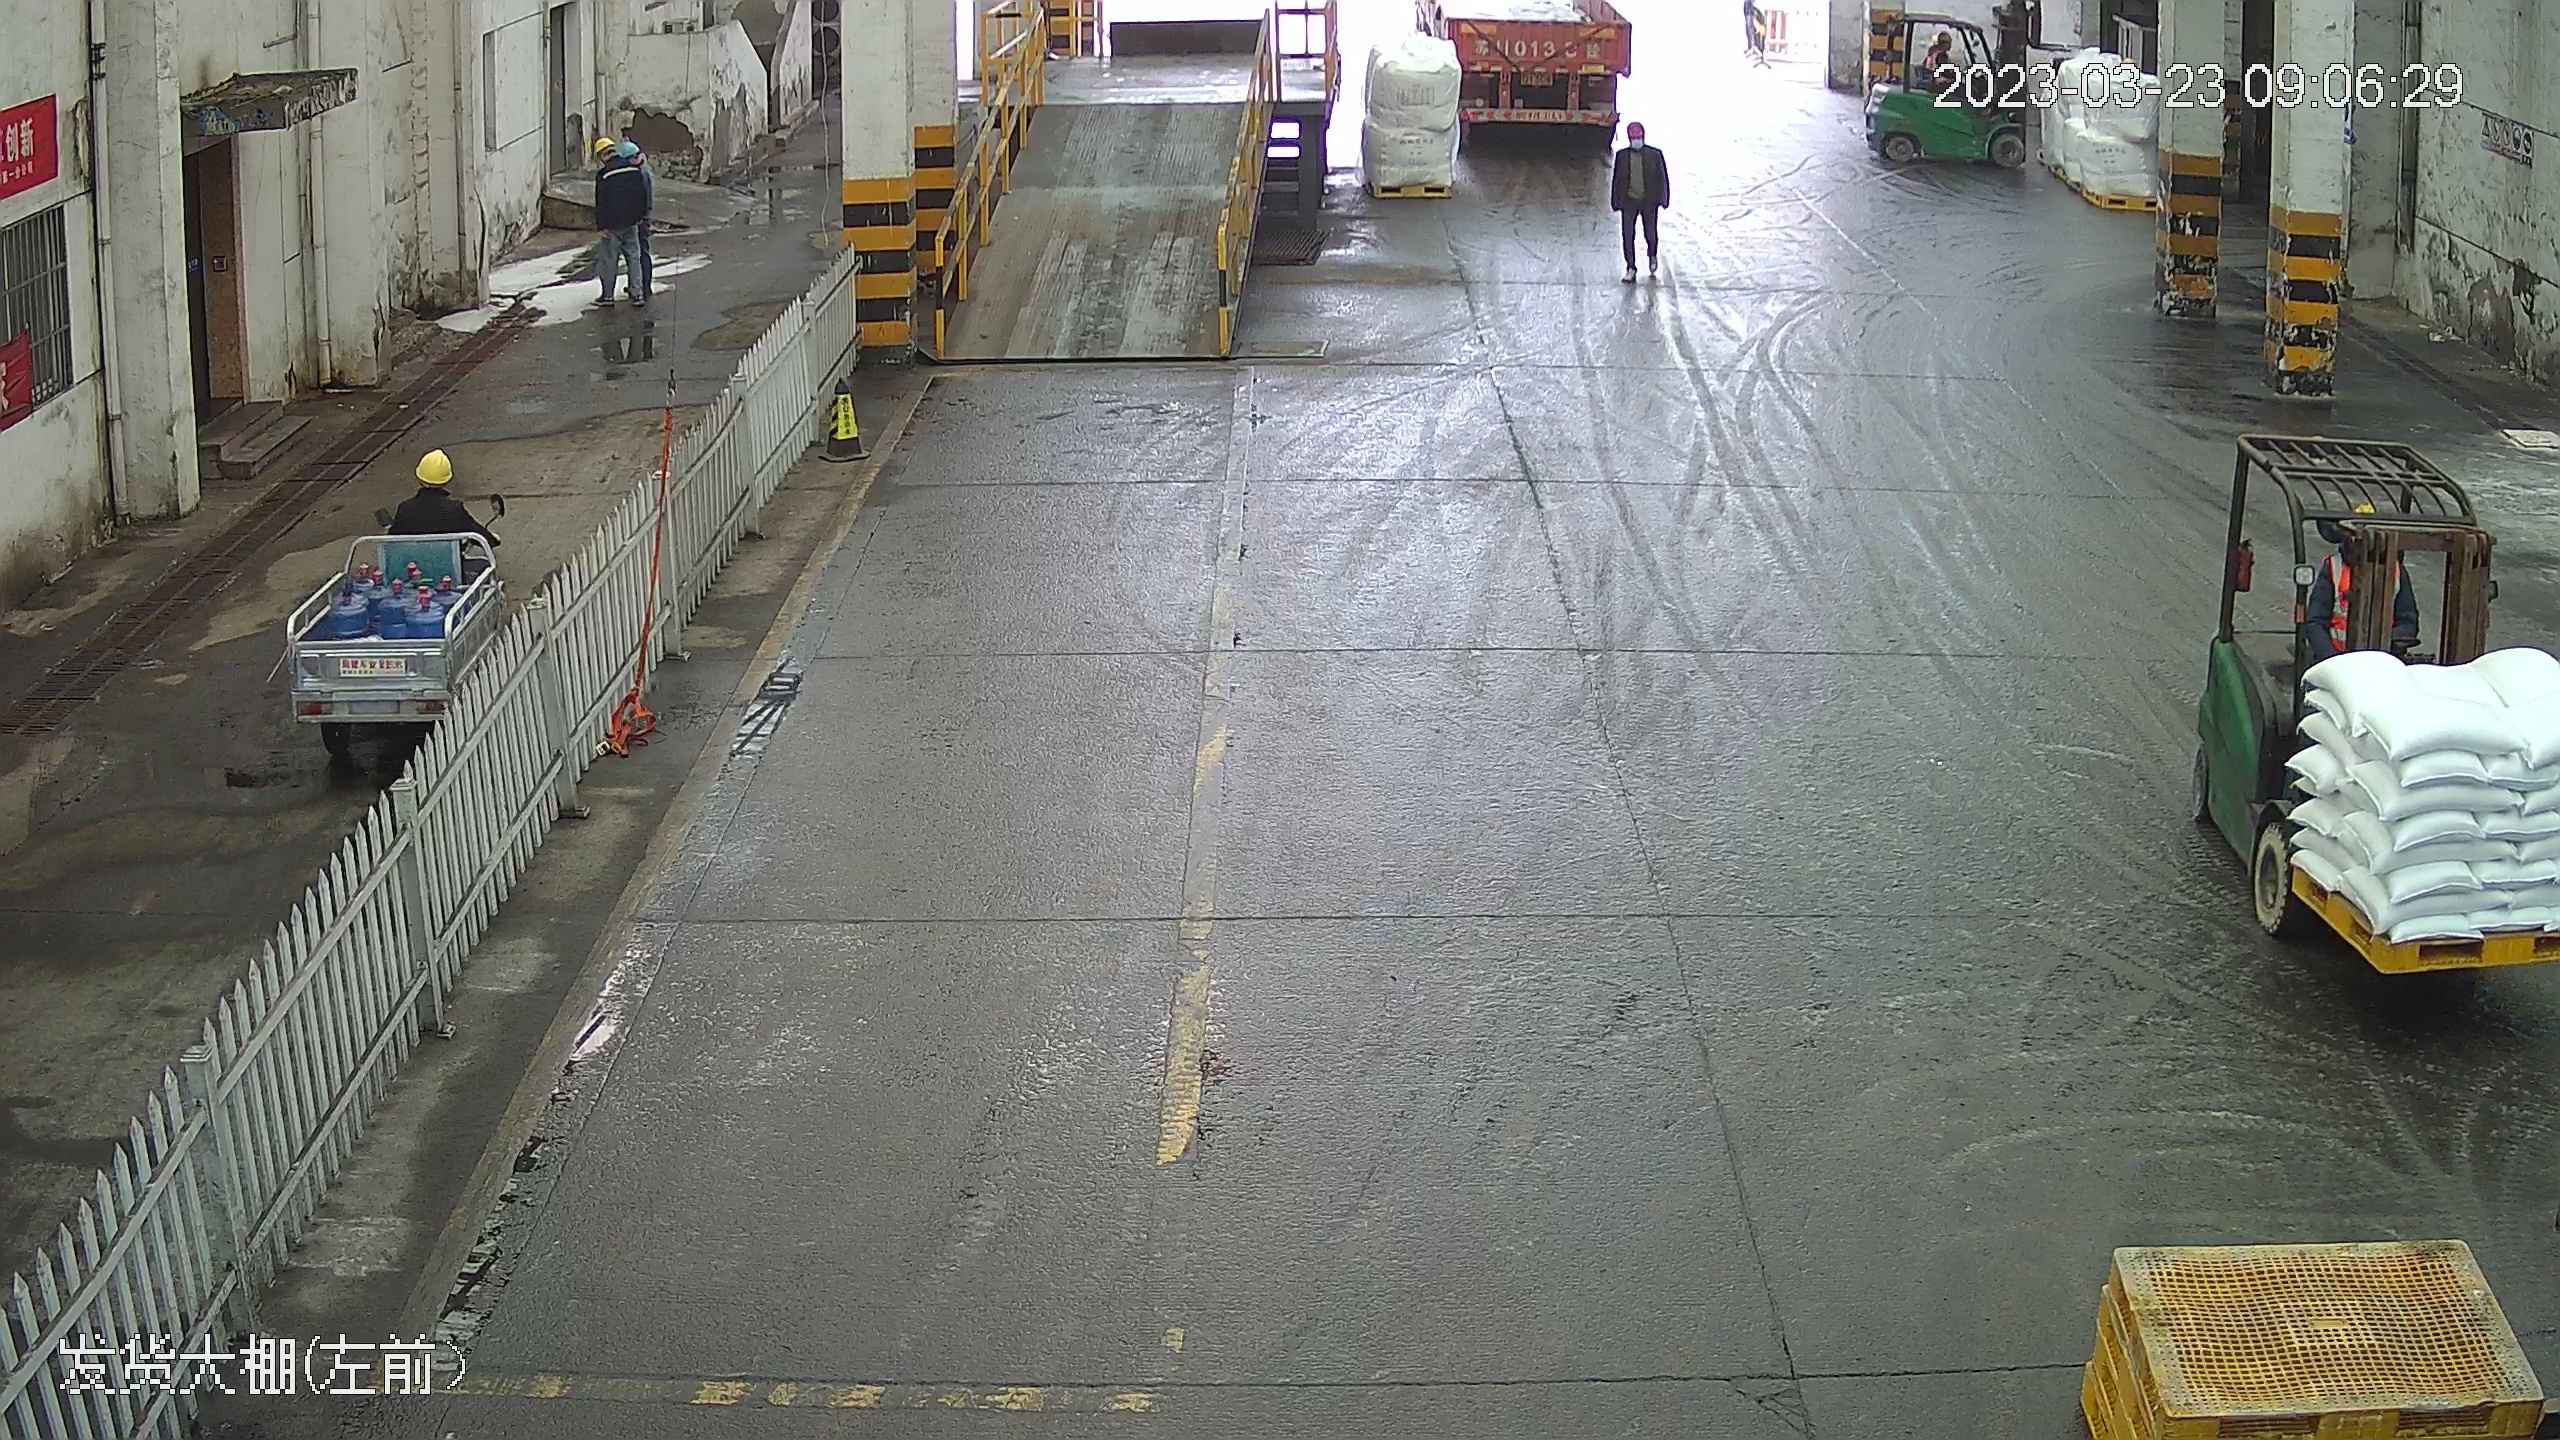head: (394, 446, 478, 526), (591, 132, 650, 192), (1612, 112, 1667, 166)
helmet: (411, 446, 455, 484), (590, 132, 624, 160), (1625, 112, 1647, 131)
people: (586, 126, 661, 323), (1608, 108, 1673, 291)
truck: (1429, 3, 1636, 139)
